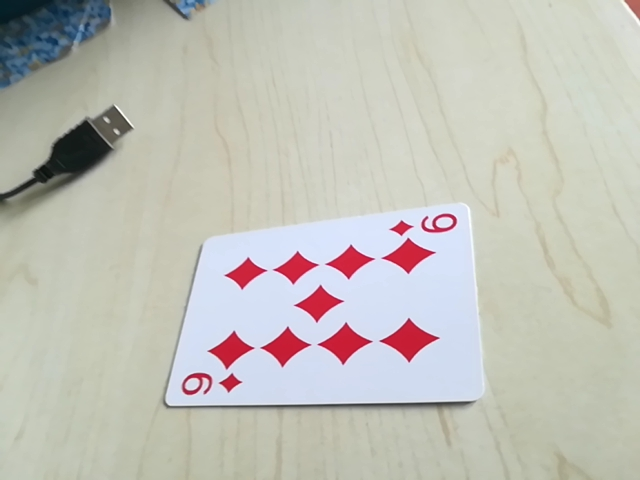fk 9: (386, 208, 463, 242), (174, 368, 244, 403)
